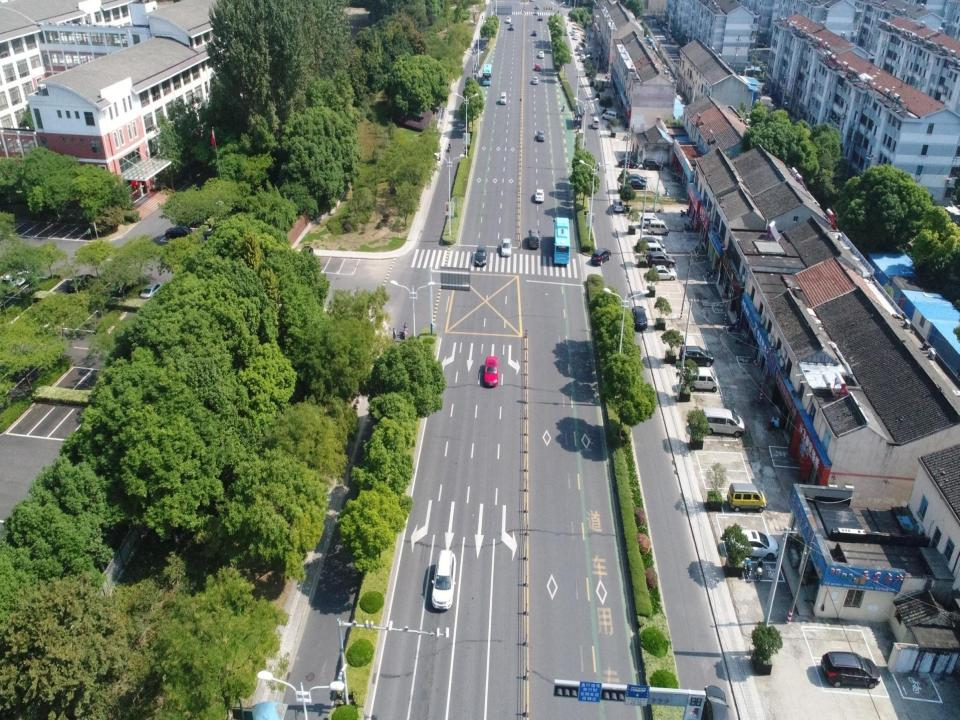bus: (552, 214, 570, 264), (482, 64, 492, 86)
car: (819, 650, 881, 690), (428, 547, 457, 610), (730, 530, 779, 560), (679, 344, 714, 366), (1, 270, 33, 290), (66, 274, 95, 292), (483, 355, 498, 387), (646, 252, 676, 268), (164, 227, 193, 242), (650, 265, 677, 281), (110, 279, 136, 295), (632, 306, 648, 330), (591, 247, 611, 266), (638, 235, 665, 249), (140, 282, 162, 299), (297, 245, 313, 267), (473, 243, 487, 266), (528, 226, 541, 250), (627, 178, 648, 192), (642, 158, 664, 171), (618, 158, 639, 169), (501, 237, 512, 257), (626, 174, 647, 184), (534, 186, 545, 202), (612, 198, 624, 212), (537, 130, 545, 142), (532, 76, 538, 85), (534, 63, 540, 71), (538, 50, 544, 58), (580, 54, 586, 62), (575, 44, 581, 51), (573, 33, 579, 40), (509, 22, 514, 30), (506, 16, 511, 24), (571, 31, 578, 36), (538, 15, 543, 21), (534, 9, 539, 15), (532, 29, 536, 36), (535, 3, 539, 9)
van: (700, 407, 745, 438), (727, 482, 767, 512), (685, 366, 718, 392), (640, 214, 666, 229), (648, 219, 669, 237), (643, 243, 666, 257), (602, 110, 618, 122), (591, 116, 600, 129), (500, 92, 508, 106), (578, 47, 583, 55), (572, 26, 576, 33)
